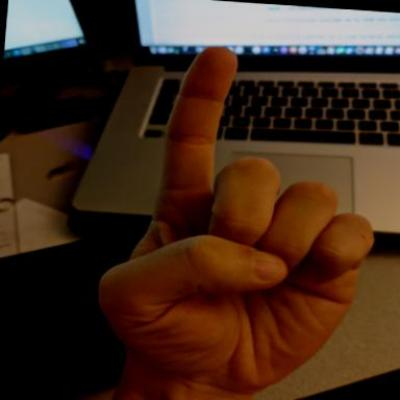hand: (84, 31, 399, 399)
